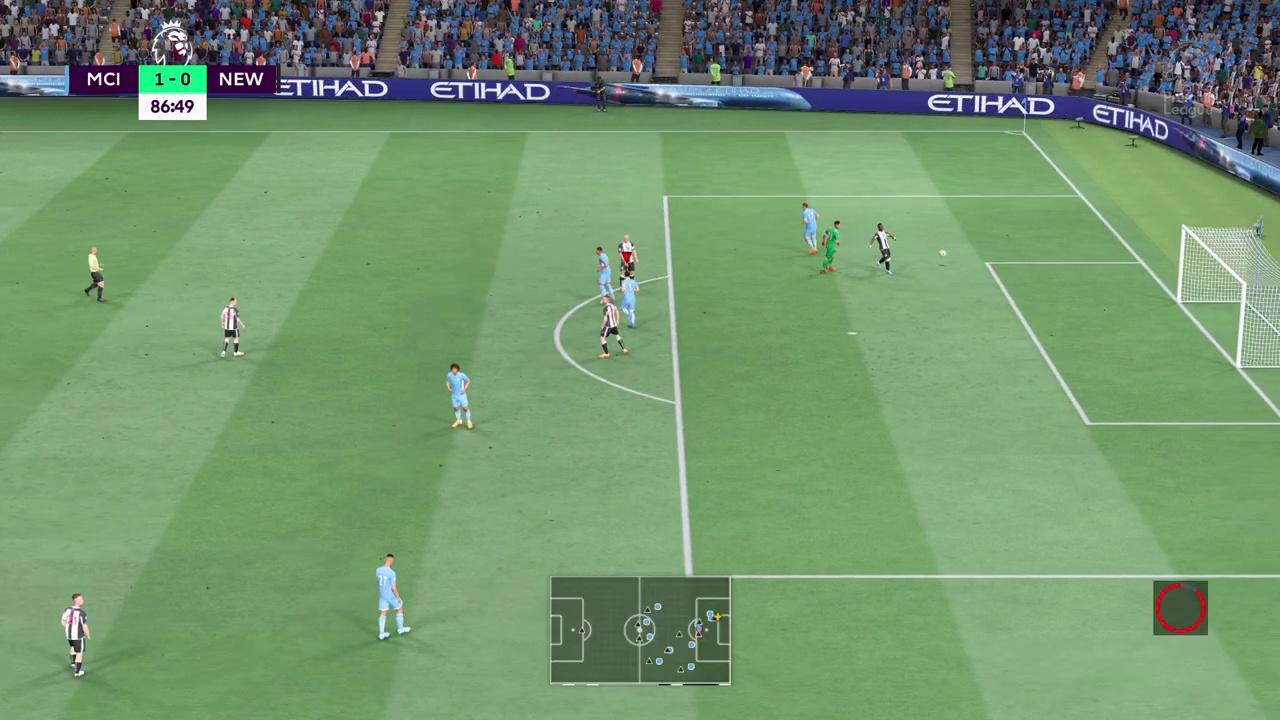scoreboard: (64, 65, 279, 95)
timestamp: (137, 98, 211, 120)
